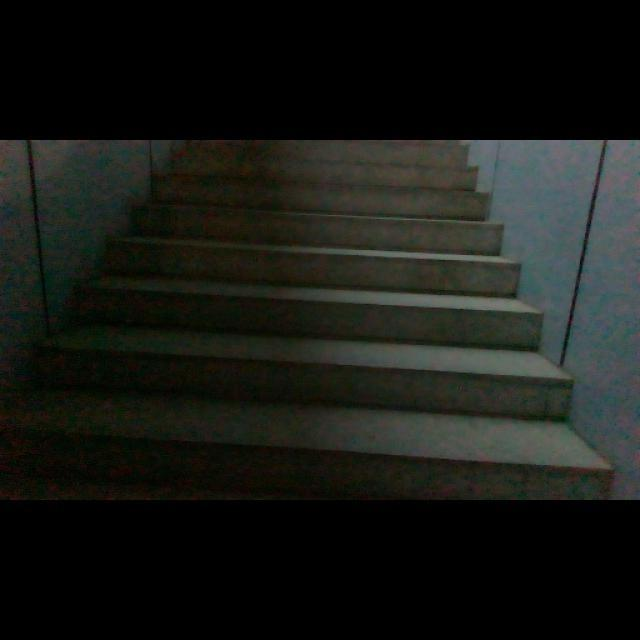stair: (25, 140, 618, 488)
